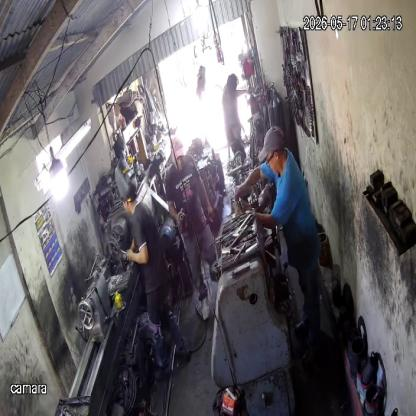lentes: (264, 149, 276, 164)
